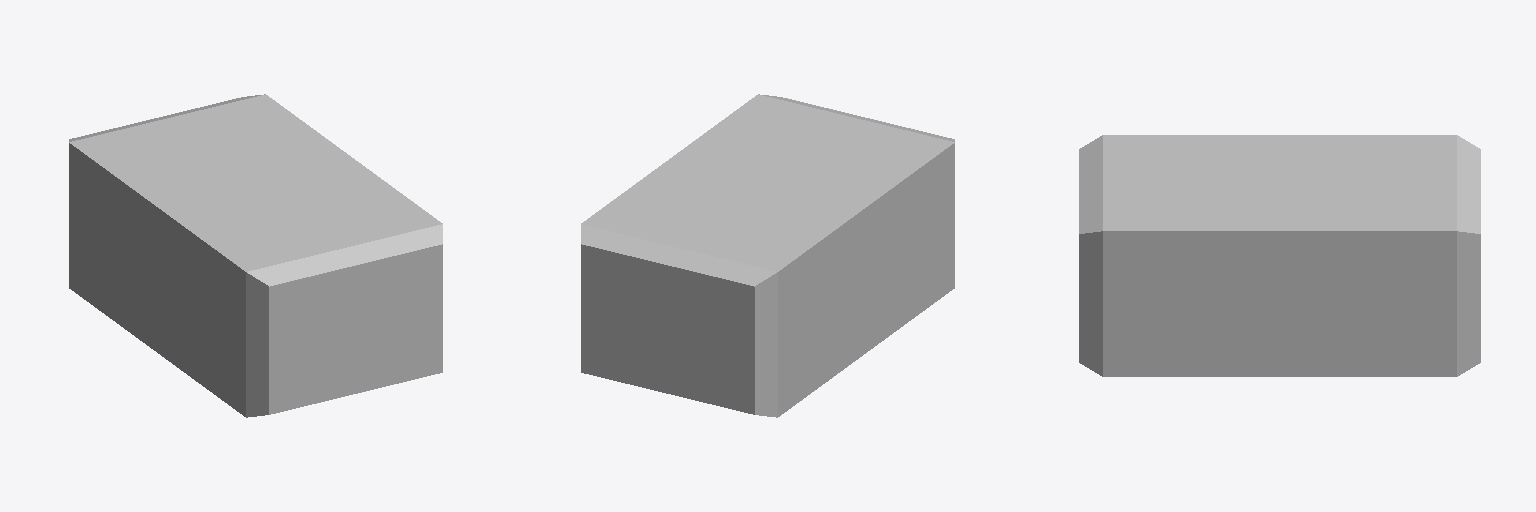
File: bazaTank.obj
The picture shows the model from 3 angles: view 1: azimuth 30°, elevation 25°; view 2: azimuth 150°, elevation 25°; view 3: azimuth 270°, elevation 25°; orthographic projection.
Visible parts, largest first — view 1: Cube.004; view 2: Cube.004; view 3: Cube.004.
Boxes of the visible parts, box(x1,y1,x2,y2) form: Cube.004: box(69, 94, 442, 417); Cube.004: box(581, 94, 954, 417); Cube.004: box(1079, 135, 1480, 376).
Bounding box in the file's own units: 1.7 × 1.2 × 3.